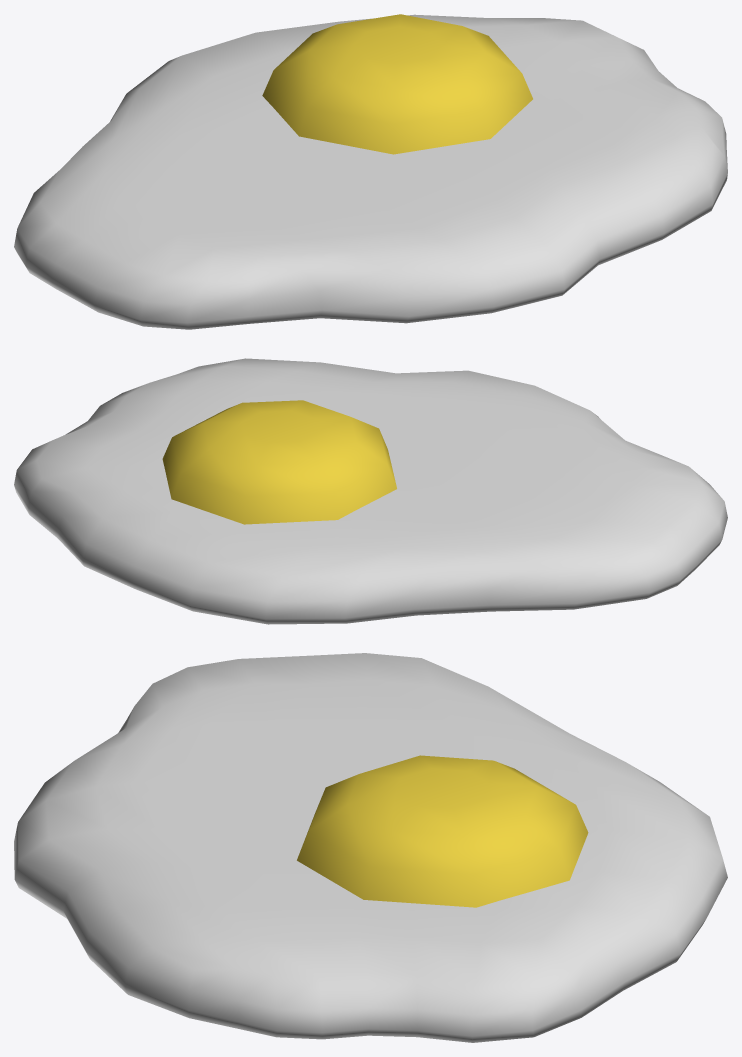
The model's file is ovoQuebrado.fbx.
3 renders of one model, top to bottom at view 1: azimuth 30°, elevation 25°; view 2: azimuth 150°, elevation 25°; view 3: azimuth 270°, elevation 25°, orthographic. The views are drawn at different scales.
Parts seen in each view (by area): view 1: OvoQuebrado; view 2: OvoQuebrado; view 3: OvoQuebrado.
Part boxes in pixels (<box>): OvoQuebrado: <box>14,14,727,329</box>; OvoQuebrado: <box>14,358,727,624</box>; OvoQuebrado: <box>14,653,727,1042</box>.
Size of the model in its own units: 77.76 by 11.57 by 64.91.
